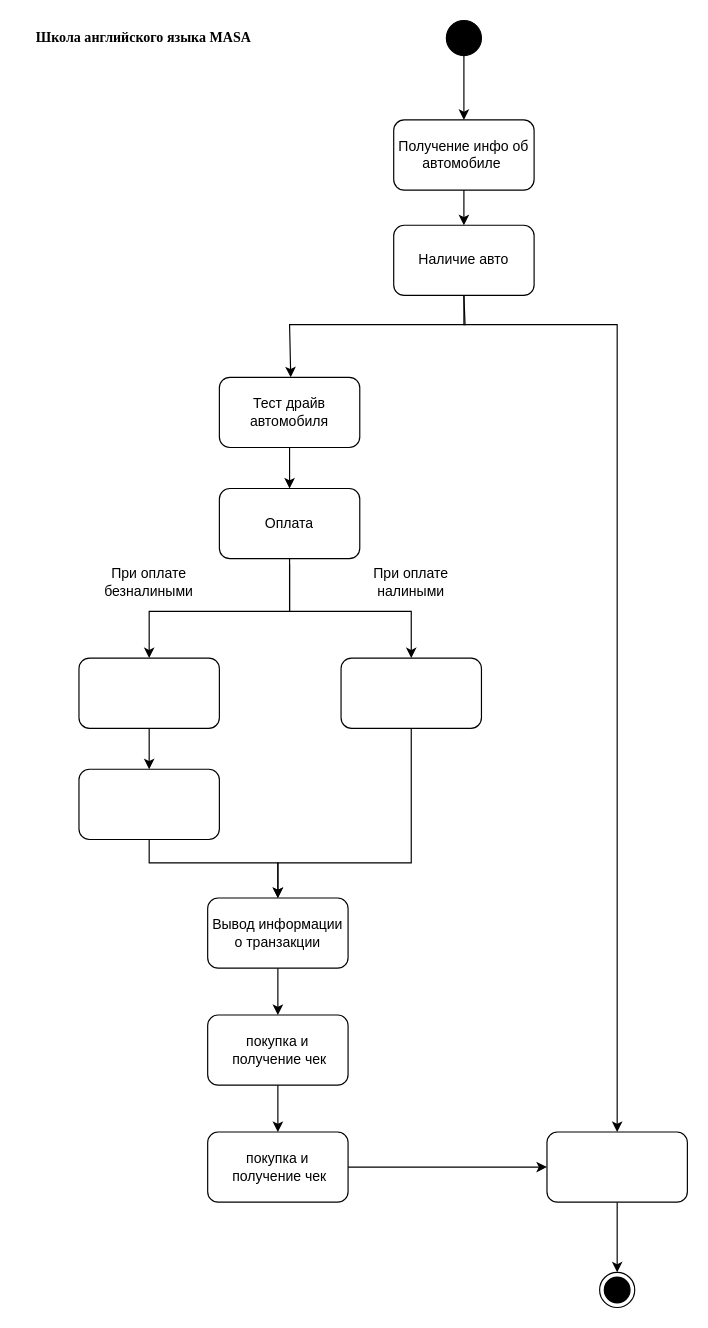
This 708x1328 diagram has some shape labels left out. The shapes that lost their labels are listed below. From the top down, each one's box as (x1, y1, x2, y2) in pixels, then its label:
(78, 657, 219, 728): Ввод суммы и банковскую информацию
(340, 657, 481, 728): ввод суммы оплаты
(78, 768, 219, 839): Подверждение операции от банка
(546, 1131, 687, 1202): завершение операции
